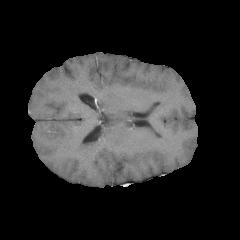glioma: (74, 131, 116, 160)
